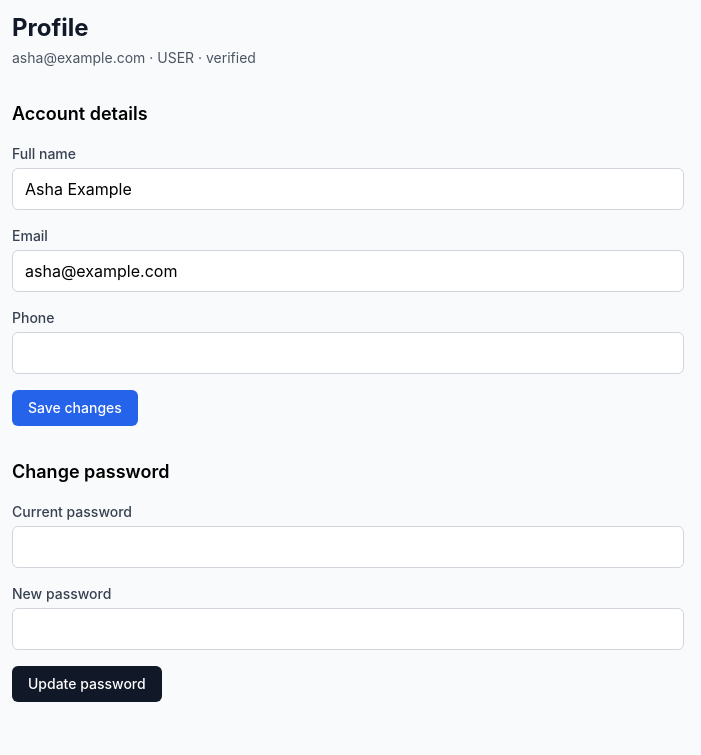
profile page › reports that there is nothing to save when the form is untouched
The width and height of the screenshot is (701, 755).
Check: the field labelled "Full name" holds "Asha Example", box [12,168,684,210]
Click the button "Save changes" at [75, 408], box [12,390,138,426]
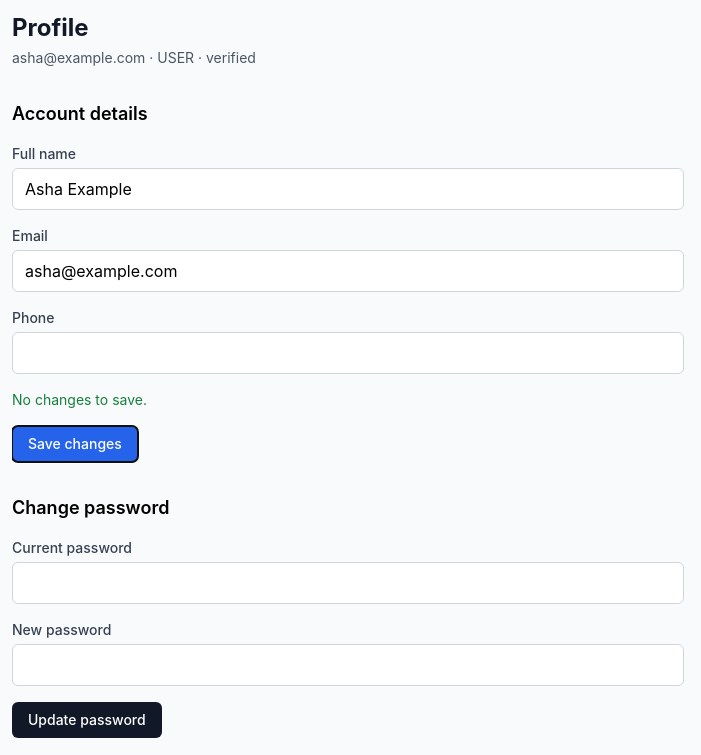
Check: the text "No changes to save." is shown, box [12,391,147,408]
